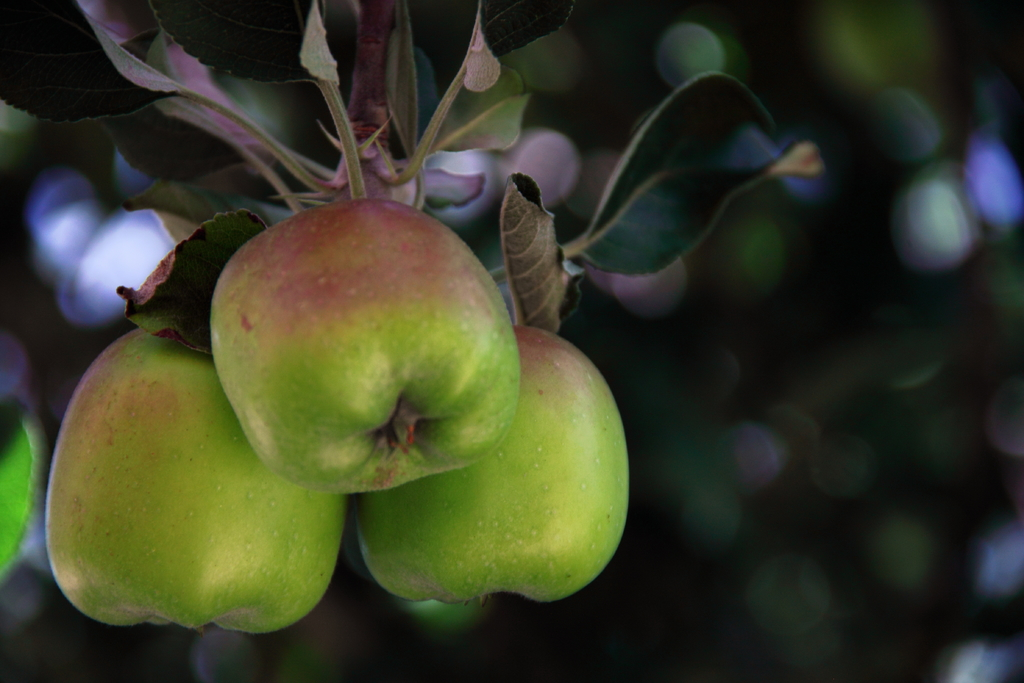Apple: (202, 192, 519, 513), (44, 325, 347, 639), (357, 318, 634, 609)
